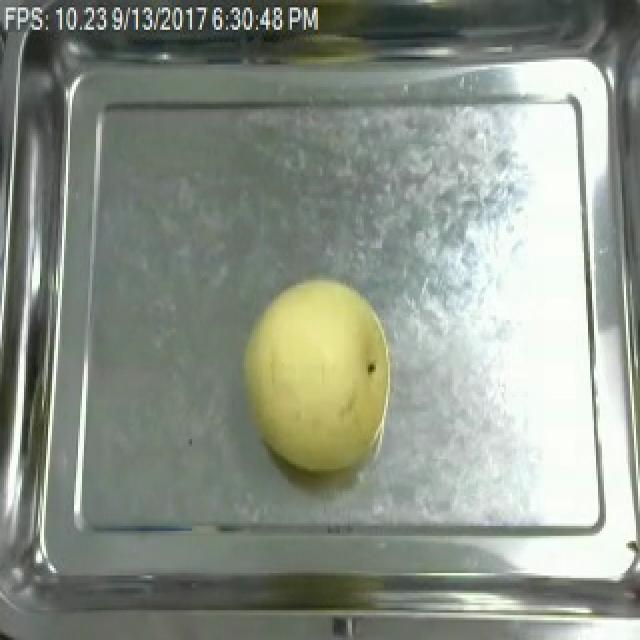Fruit: (236, 268, 400, 476)
